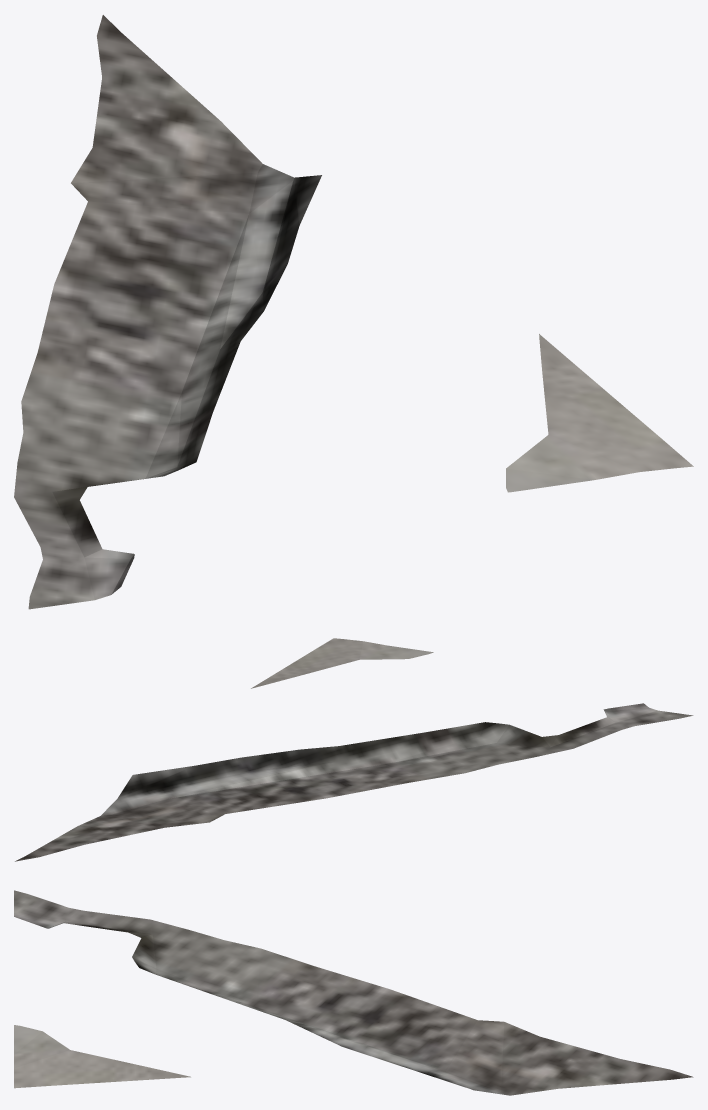
The picture shows the model from 3 angles, top to bottom: view 1: azimuth 30°, elevation 25°; view 2: azimuth 150°, elevation 25°; view 3: azimuth 270°, elevation 25°; orthographic projection. The views are drawn at different scales.
Size of the model in its own units: 0.3196 by 0.0148 by 0.4916.
1 material, 1 textured.
